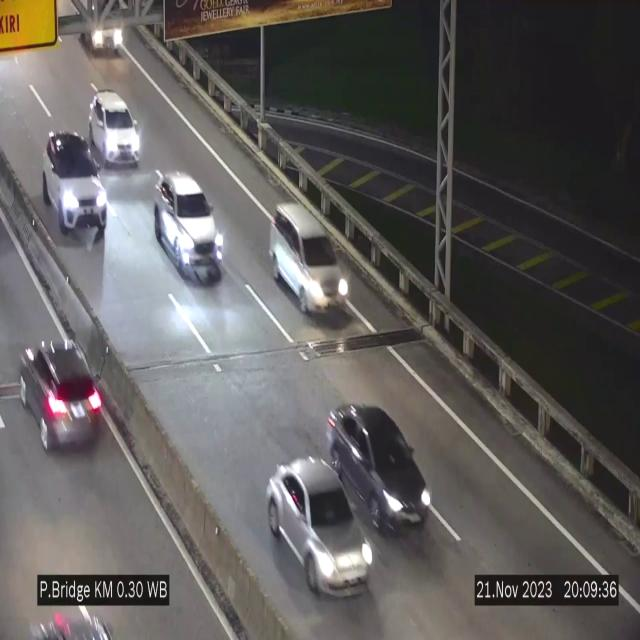Car: (266, 458, 374, 596), (326, 404, 432, 532), (15, 332, 107, 465), (269, 202, 353, 314), (37, 129, 111, 245), (154, 172, 224, 280), (89, 92, 142, 166)
Truck: (76, 0, 125, 61)
